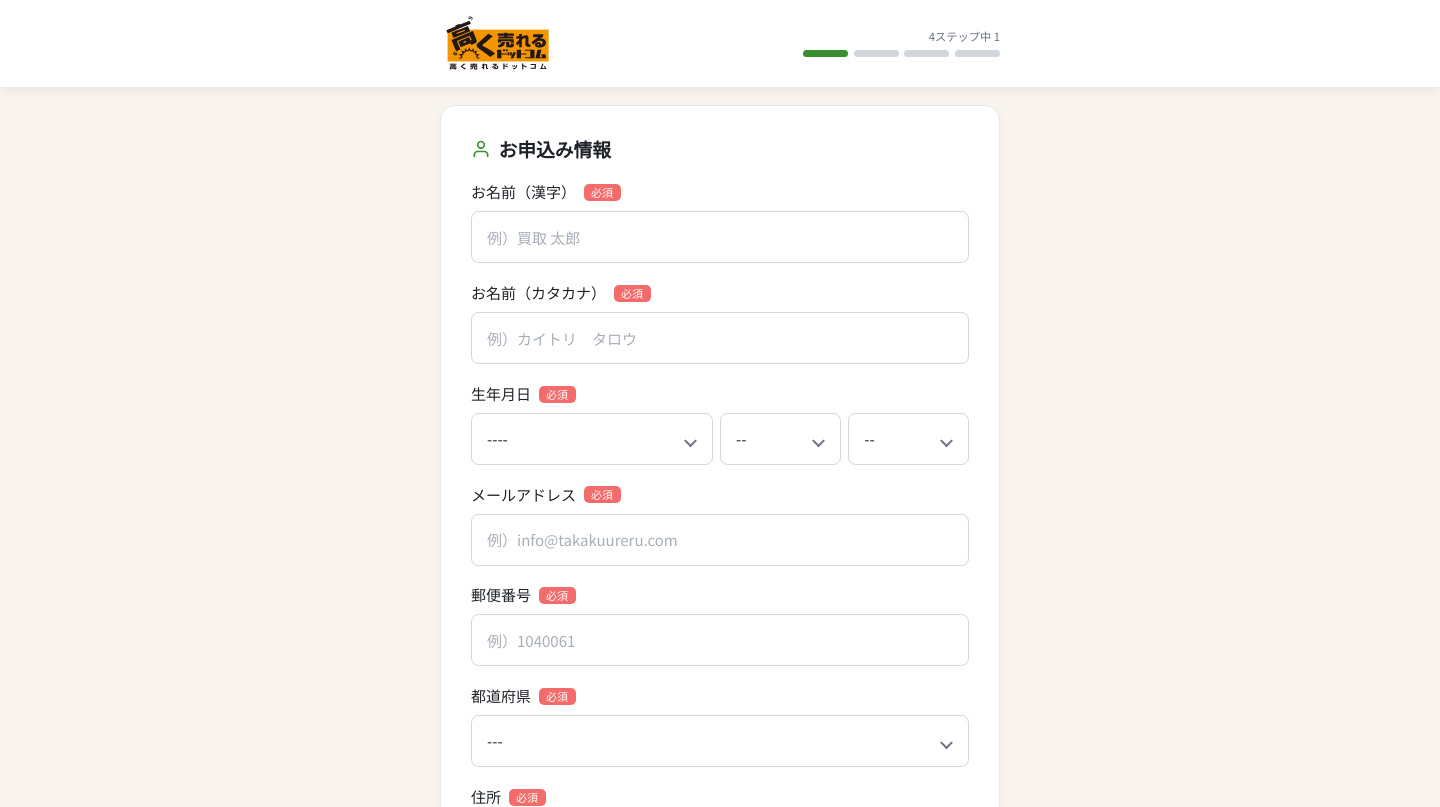
Test case: Step1PersonalInfo — postal code input › address lookup fills prefecture and address after 900ms
Type "1234567" into the field with placeholder "例）1040061" at (720, 640), box [471,614,969,666]
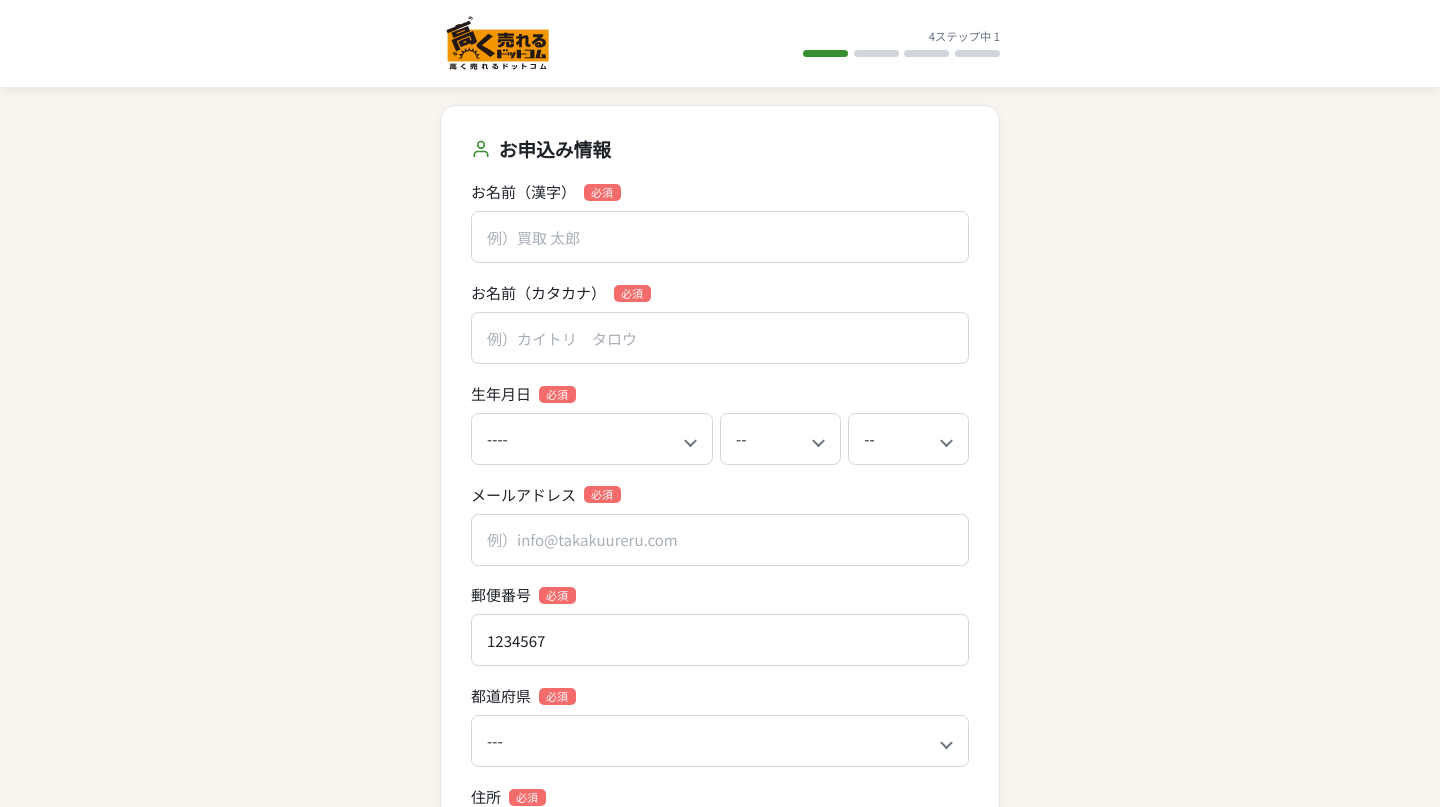
Leave the field with placeholder "例）1040061", box [471,614,969,666]
Wait 900 ms
(page scrolled)
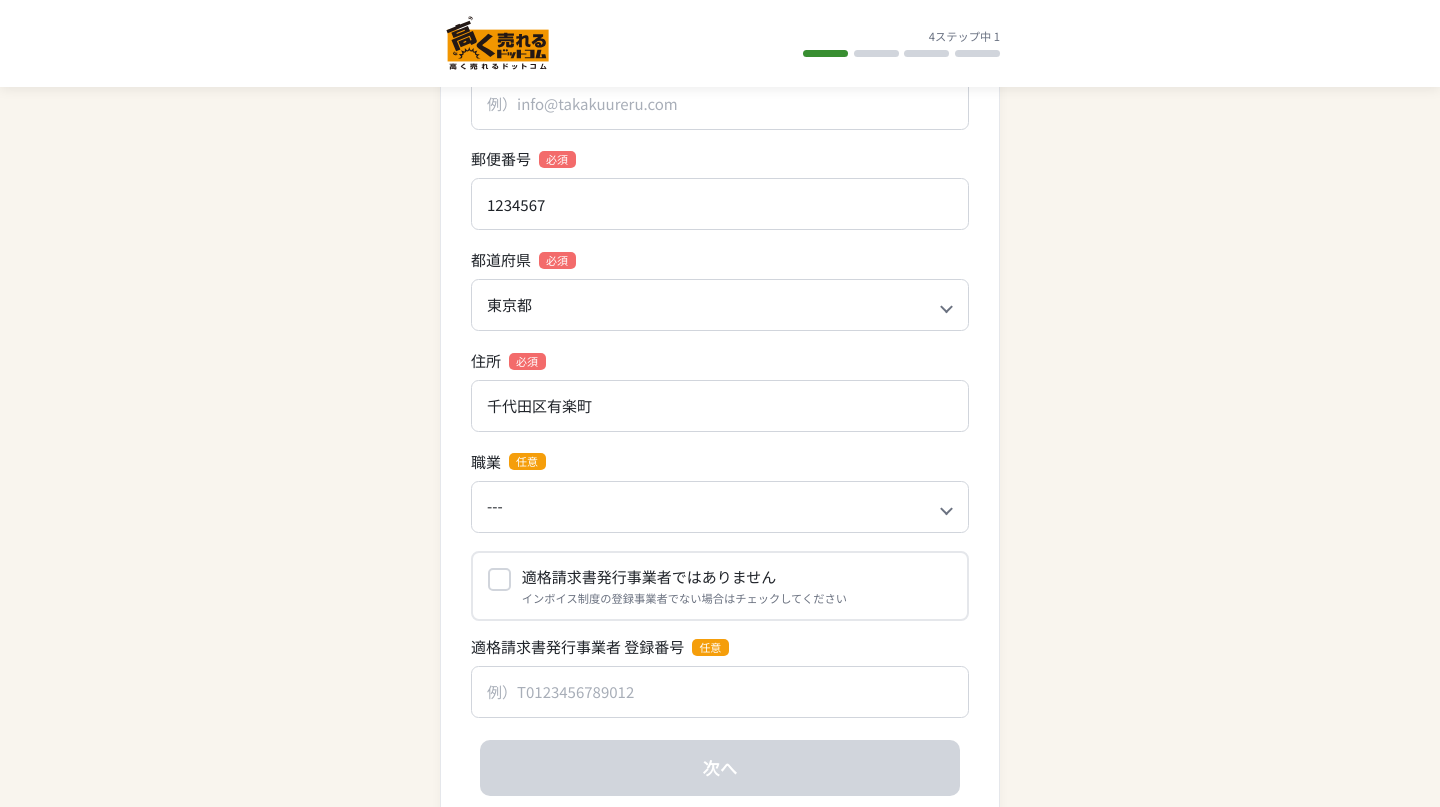
Expected: the field showing "千代田区有楽町" below "住所" is shown, [471,380,969,432]
Expected: the dropdown showing "東京都" below "都道府県" is shown, [471,279,969,331]
